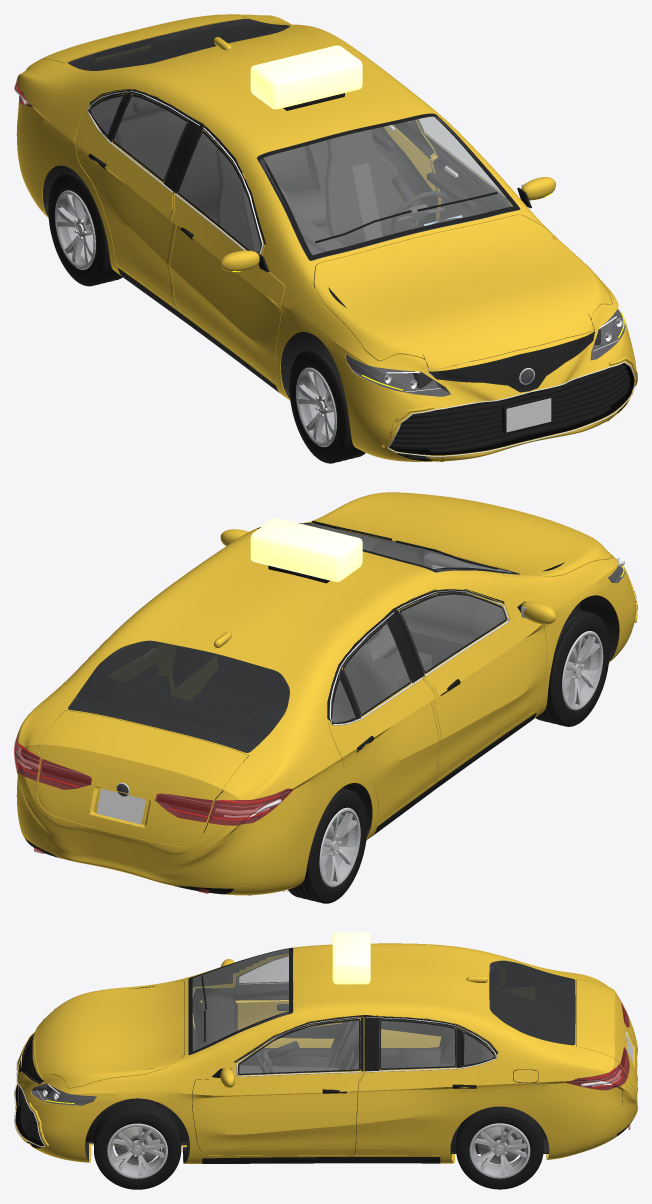
Rendered from taxi-lod0.glb.
3 renders of one model, top to bottom at view 1: azimuth 30°, elevation 25°; view 2: azimuth 150°, elevation 25°; view 3: azimuth 270°, elevation 25°, orthographic. The views are drawn at different scales.
Visible parts, largest first — view 1: Body, HoodSkin, Windscreen, Panel_FR, Panel_RR, Grille_Lower_Grille, SeatMesh_Rear_Back, Seat_FL_Back, Window_FR, TaxiSign, RearWindow, Window_RR (+21 smaller); view 2: Body, TrunkSkin, RearWindow, HoodSkin, Panel_FR, Panel_RR, Window_FR, TaxiSign, Window_RR, Dash, Wheel_FR_Tyre, Wheel_RR_Tyre (+20 smaller); view 3: Body, Panel_FL, HoodSkin, Panel_RL, Windscreen, RearWindow, Window_FL, Panel_FR, TrunkSkin, Wheel_FL_Tyre, Window_RL, Wheel_RL_Tyre (+23 smaller).
Boxes of the visible parts, x1=… form: Body: x1=16, y1=14, x2=636, y2=461; HoodSkin: x1=314, y1=215, x2=611, y2=371; Windscreen: x1=257, y1=113, x2=520, y2=260; Panel_FR: x1=170, y1=126, x2=284, y2=378; Panel_RR: x1=74, y1=90, x2=201, y2=306; Grille_Lower_Grille: x1=390, y1=363, x2=630, y2=452; SeatMesh_Rear_Back: x1=116, y1=108, x2=312, y2=211; Seat_FL_Back: x1=325, y1=129, x2=412, y2=246; Window_FR: x1=177, y1=131, x2=261, y2=253; TaxiSign: x1=250, y1=45, x2=362, y2=109; RearWindow: x1=68, y1=19, x2=289, y2=70; Window_RR: x1=112, y1=94, x2=188, y2=181; Body: x1=16, y1=520, x2=636, y2=895; TrunkSkin: x1=36, y1=710, x2=248, y2=845; RearWindow: x1=68, y1=640, x2=289, y2=752; HoodSkin: x1=314, y1=492, x2=611, y2=577; Panel_FR: x1=395, y1=589, x2=546, y2=778; Panel_RR: x1=327, y1=610, x2=438, y2=823; Window_FR: x1=399, y1=592, x2=506, y2=673; TaxiSign: x1=250, y1=518, x2=362, y2=581; Window_RR: x1=343, y1=622, x2=411, y2=715; Dash: x1=383, y1=592, x2=505, y2=644; Wheel_FR_Tyre: x1=536, y1=608, x2=609, y2=726; Wheel_RR_Tyre: x1=288, y1=788, x2=367, y2=903; Body: x1=14, y1=943, x2=637, y2=1163; Panel_FL: x1=192, y1=1015, x2=362, y2=1155; HoodSkin: x1=32, y1=981, x2=184, y2=1088; Panel_RL: x1=354, y1=1015, x2=500, y2=1155; Windscreen: x1=188, y1=947, x2=292, y2=1054; RearWindow: x1=489, y1=960, x2=575, y2=1045; Window_FL: x1=238, y1=1019, x2=360, y2=1075; Panel_FR: x1=192, y1=955, x2=341, y2=1047; TrunkSkin: x1=576, y1=979, x2=637, y2=1088; Wheel_FL_Tyre: x1=94, y1=1101, x2=181, y2=1189; Window_RL: x1=380, y1=1019, x2=456, y2=1069; Wheel_RL_Tyre: x1=456, y1=1106, x2=543, y2=1189.
Bounding box in the file's own units: 2.29 × 1.7 × 4.93.
